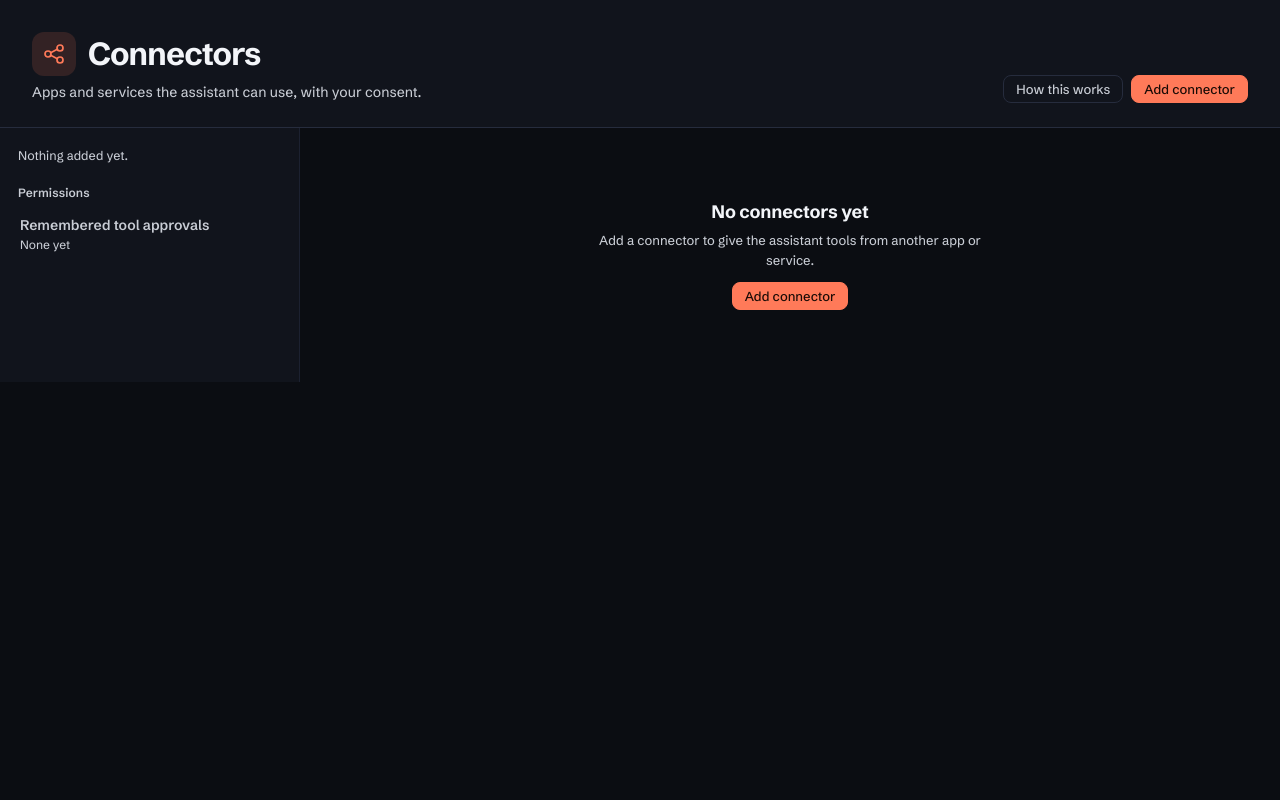
Test case: ConnectorsPage › shows the empty state, whose action opens the add flow
The width and height of the screenshot is (1280, 800).
Click the button "Add connector" below "No connectors yet": [790, 296] box [732,282,848,310]
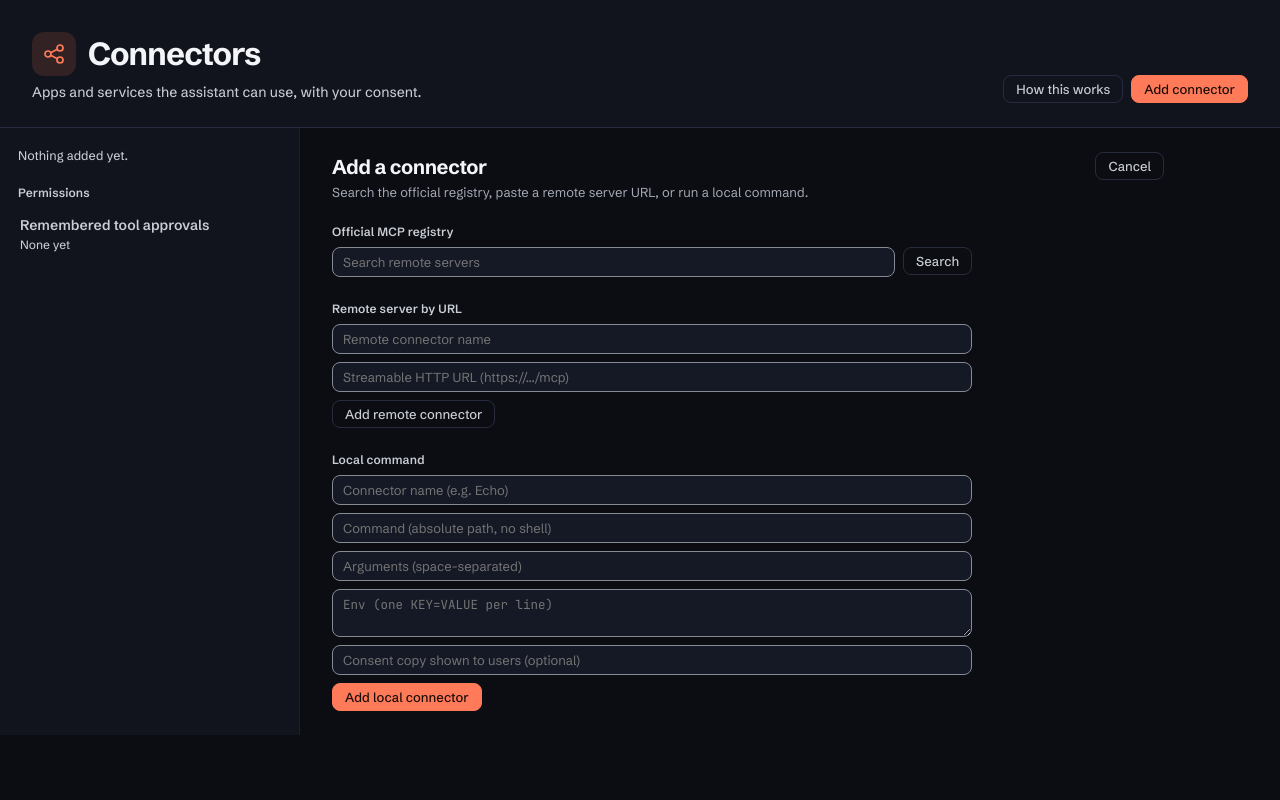
Expected: the heading "Add a connector" is shown, [332,154,487,178]
Expected: the field with placeholder "Search remote servers" is shown, [332,247,895,277]
Expected: the button "Add local connector" is shown, [332,683,482,711]
